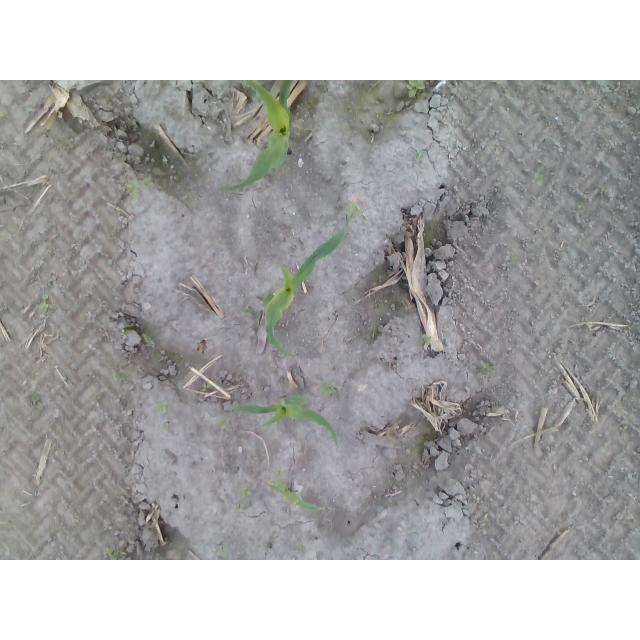Maize: (264, 226, 345, 359), (217, 80, 293, 193), (232, 393, 340, 447), (263, 478, 326, 512)
Weeds: (125, 176, 151, 202), (342, 204, 363, 229), (106, 540, 127, 560), (405, 81, 425, 100), (479, 360, 500, 372), (38, 293, 50, 313), (32, 392, 45, 409), (320, 382, 337, 395), (216, 543, 231, 557), (214, 417, 230, 430), (113, 369, 127, 383), (238, 486, 252, 499), (156, 399, 168, 414), (58, 138, 74, 149), (239, 305, 253, 317), (535, 172, 546, 187), (141, 333, 155, 344), (419, 334, 432, 345), (0, 109, 12, 120), (506, 253, 519, 262), (416, 150, 425, 162), (577, 201, 587, 211), (123, 325, 133, 334), (201, 384, 211, 393), (235, 504, 245, 512)
